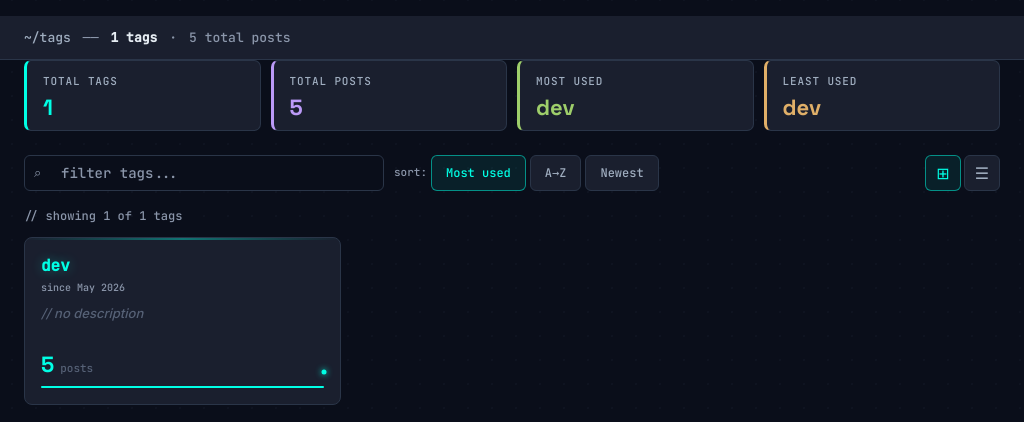
Test: TagsPage (T-212, FR-10) › T-420 stale-assumption: view toggle list → render 5-col table (was flex-row variant)
Expected: the element with test id "tag-card-dev" is shown, [24,236,341,405]
T-420: SegmentedToggle replaced với 30×30 simple buttons → aria-label "List view"
Click the button named "list view" at point(982, 172), box [964,154,1000,190]
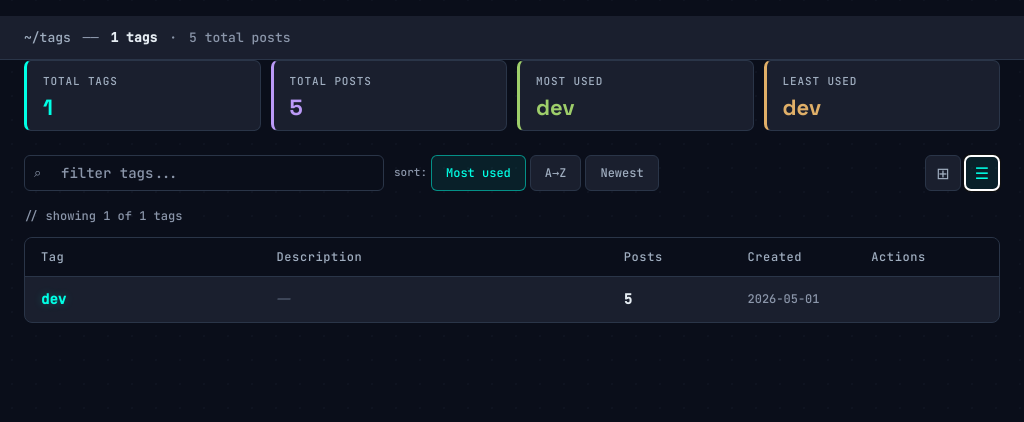
Result: the element with test id "list-view" is shown at [24,236,1000,322]
Result: the element with test id "tag-row-dev" is shown at [41,290,820,308]
